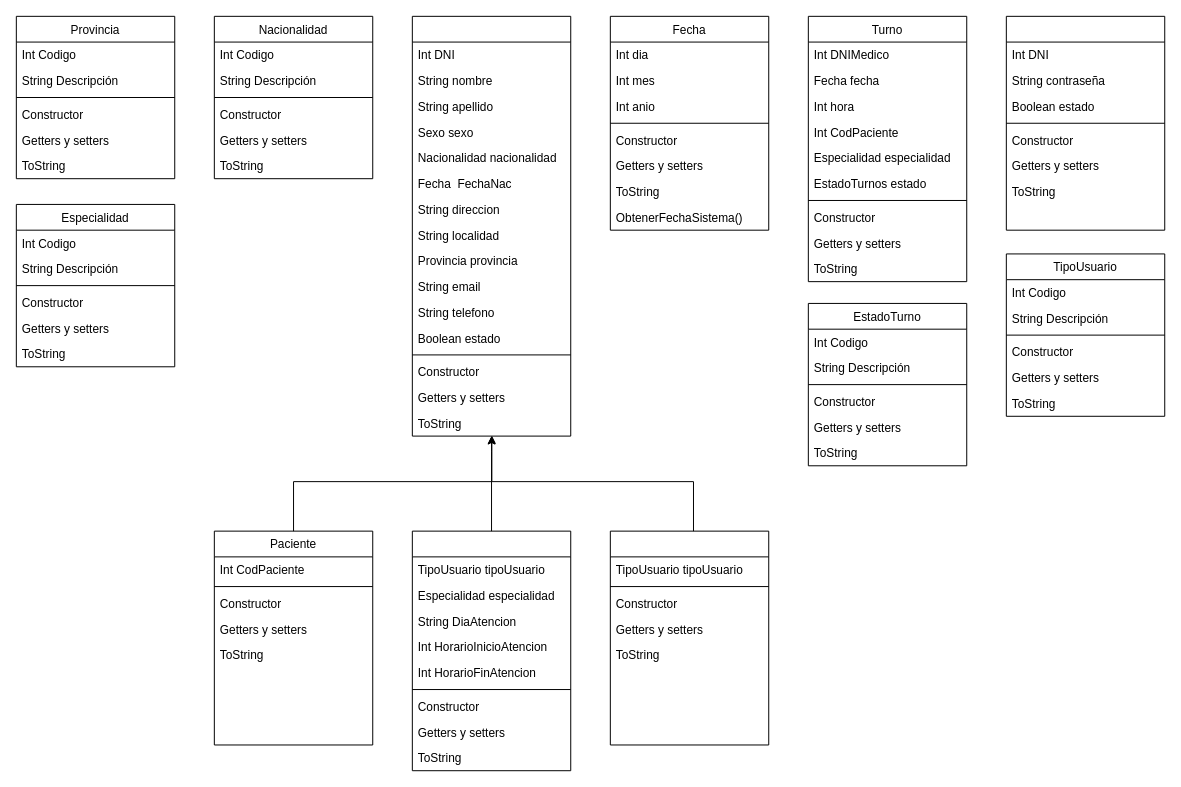
The diagram is 1181 pixels wide and 787 high, and some of its shapes have lost their labels. Each missing label, with the box of its shape:
Administrador: (609, 530, 769, 745)
Medico: (411, 530, 571, 771)
Persona: (411, 15, 571, 436)
Usuario: (1005, 15, 1165, 230)
